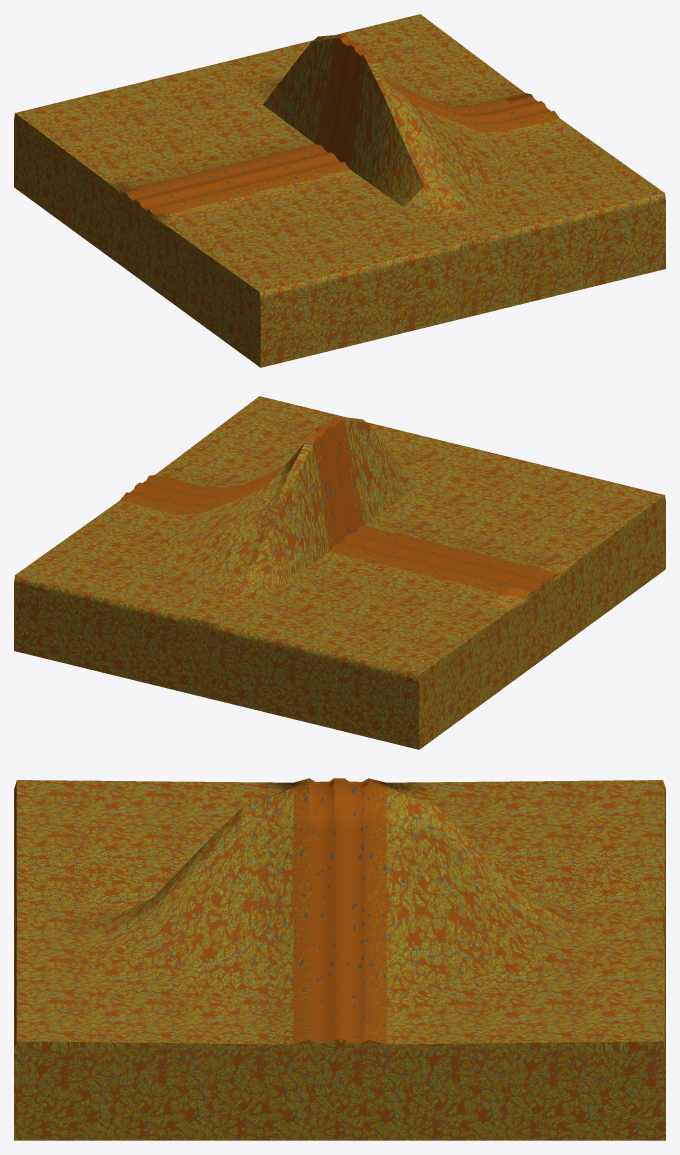
The model's file is Road_grooves_Jump .fbx.
3 views of the same model, one above another, from view 1: azimuth 30°, elevation 25°; view 2: azimuth 150°, elevation 25°; view 3: azimuth 270°, elevation 25° (orthographic). The views are drawn at different scales.
Visible parts, largest first — view 1: Mesh_Path_Straight8; view 2: Mesh_Path_Straight8; view 3: Mesh_Path_Straight8.
Boxes of the visible parts, bbox=[...] form: Mesh_Path_Straight8: bbox=[14, 14, 665, 367]; Mesh_Path_Straight8: bbox=[14, 396, 665, 749]; Mesh_Path_Straight8: bbox=[14, 778, 665, 1140].
Size of the model in its own units: 5588 by 2382 by 5890.
